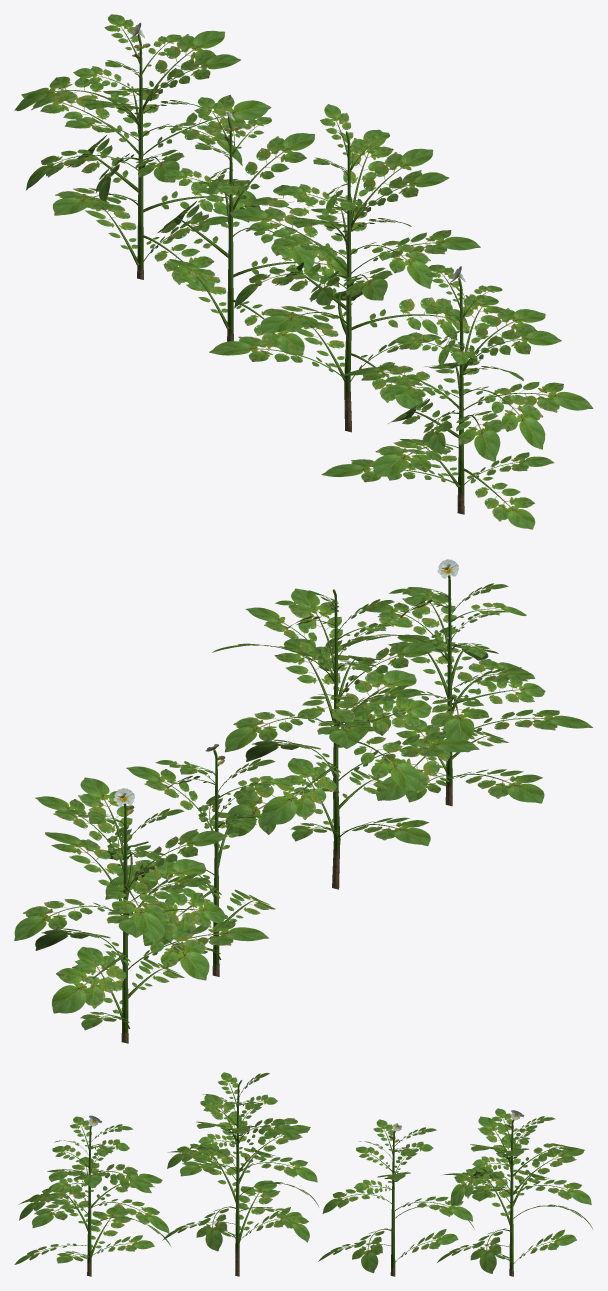
The model's file is potato_plants_collection.glb.
3 views of the same model, one above another, from view 1: azimuth 30°, elevation 25°; view 2: azimuth 150°, elevation 25°; view 3: azimuth 270°, elevation 25° (orthographic). The views are drawn at different scales.
Parts seen in each view (by area): view 1: Potato_03_Material #26_0, Potato_04_Material #26_0, Potato_01_Material #26_0, Potato_02_Material #26_0; view 2: Potato_03_Material #26_0, Potato_01_Material #26_0, Potato_04_Material #26_0, Potato_02_Material #26_0; view 3: Potato_03_Material #26_0, Potato_04_Material #26_0, Potato_01_Material #26_0, Potato_02_Material #26_0.
Boxes of the visible parts, bbox=[...] form: Potato_03_Material #26_0: bbox=[209, 104, 480, 432]; Potato_04_Material #26_0: bbox=[321, 264, 593, 529]; Potato_01_Material #26_0: bbox=[14, 14, 271, 292]; Potato_02_Material #26_0: bbox=[157, 97, 346, 356]; Potato_03_Material #26_0: bbox=[212, 588, 479, 889]; Potato_01_Material #26_0: bbox=[14, 777, 268, 1043]; Potato_04_Material #26_0: bbox=[332, 559, 592, 806]; Potato_02_Material #26_0: bbox=[105, 744, 293, 976]; Potato_03_Material #26_0: bbox=[162, 1072, 319, 1276]; Potato_04_Material #26_0: bbox=[14, 1115, 170, 1276]; Potato_01_Material #26_0: bbox=[437, 1108, 593, 1276]; Potato_02_Material #26_0: bbox=[318, 1119, 474, 1276].
Bounding box in the file's own units: 16.79 × 22.35 × 57.87.
4 materials, 4 textured.
